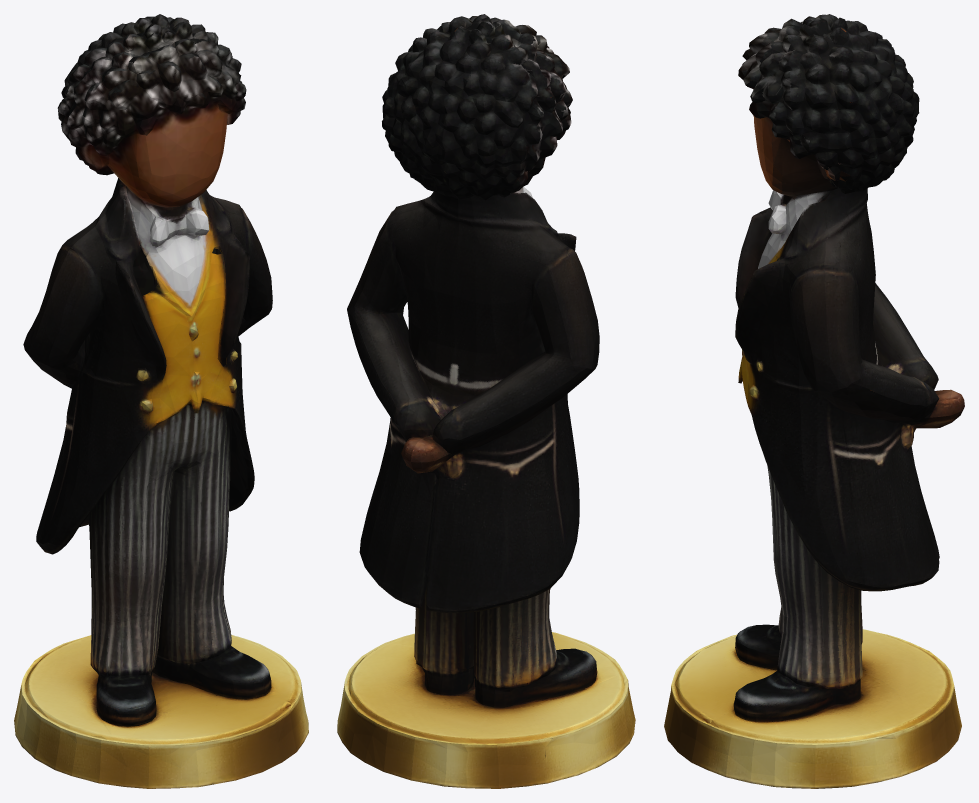
3 renders of one model, left to right at view 1: azimuth 30°, elevation 25°; view 2: azimuth 150°, elevation 25°; view 3: azimuth 270°, elevation 25°, orthographic.
Visible parts, largest first — view 1: world; view 2: world; view 3: world.
Part boxes in pixels (left/top/right/bottom): world: left=14, top=14, right=308, bottom=788; world: left=337, top=14, right=635, bottom=788; world: left=664, top=14, right=964, bottom=788.
Size of the model in its own units: 0.3817 by 1 by 0.3862.
1 material, 1 textured.
